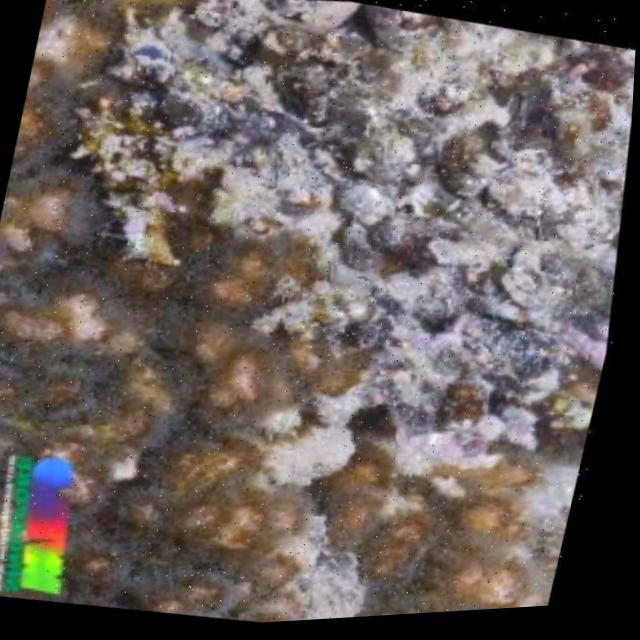Bleached Coral: (27, 0, 640, 504)
